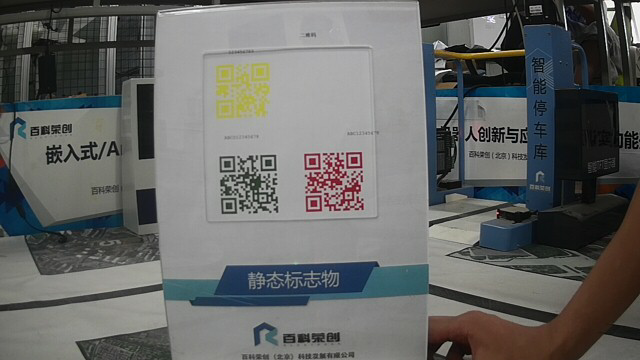qrcode: (299, 149, 371, 216), (217, 151, 284, 216), (214, 60, 271, 120)
